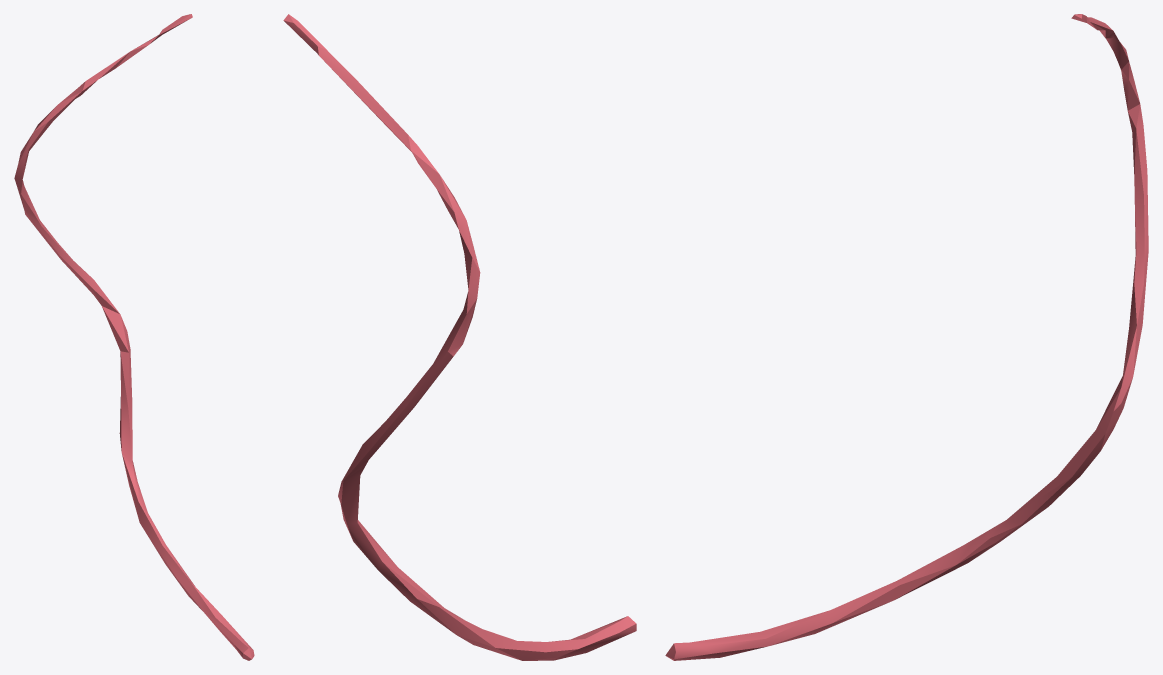
The model's file is fma50519_fj5225.glb.
3 renders of one model, left to right at view 1: azimuth 30°, elevation 25°; view 2: azimuth 150°, elevation 25°; view 3: azimuth 270°, elevation 25°, orthographic. The views are drawn at different scales.
Parts seen in each view (by area): view 1: FMA50519_FJ5225; view 2: FMA50519_FJ5225; view 3: FMA50519_FJ5225.
Part boxes in pixels (x1=…): FMA50519_FJ5225: x1=14, y1=14, x2=254, y2=660; FMA50519_FJ5225: x1=283, y1=14, x2=636, y2=660; FMA50519_FJ5225: x1=665, y1=14, x2=1148, y2=660.
Bounding box in the file's own units: 0.00623 × 0.0199 × 0.0123.
